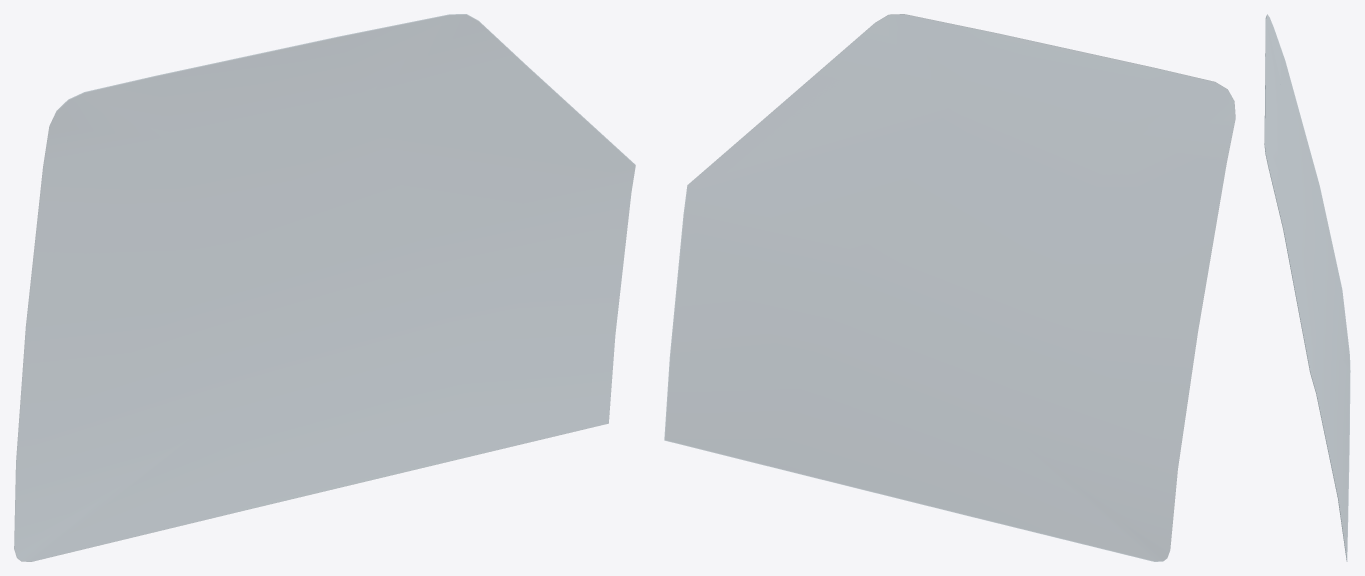
3 renders of one model, left to right at view 1: azimuth 30°, elevation 25°; view 2: azimuth 150°, elevation 25°; view 3: azimuth 270°, elevation 25°, orthographic. The views are drawn at different scales.
Parts seen in each view (by area): view 1: SM_Ambulance_Door_FL_Glass_Int2; view 2: SM_Ambulance_Door_FL_Glass_Int2; view 3: SM_Ambulance_Door_FL_Glass_Int2.
Boxes of the visible parts, <box> form: SM_Ambulance_Door_FL_Glass_Int2: <box>14,14,635,561</box>; SM_Ambulance_Door_FL_Glass_Int2: <box>664,14,1235,561</box>; SM_Ambulance_Door_FL_Glass_Int2: <box>1264,14,1350,561</box>.
Size of the model in its own units: 0.6687 by 0.5391 by 0.1194.
